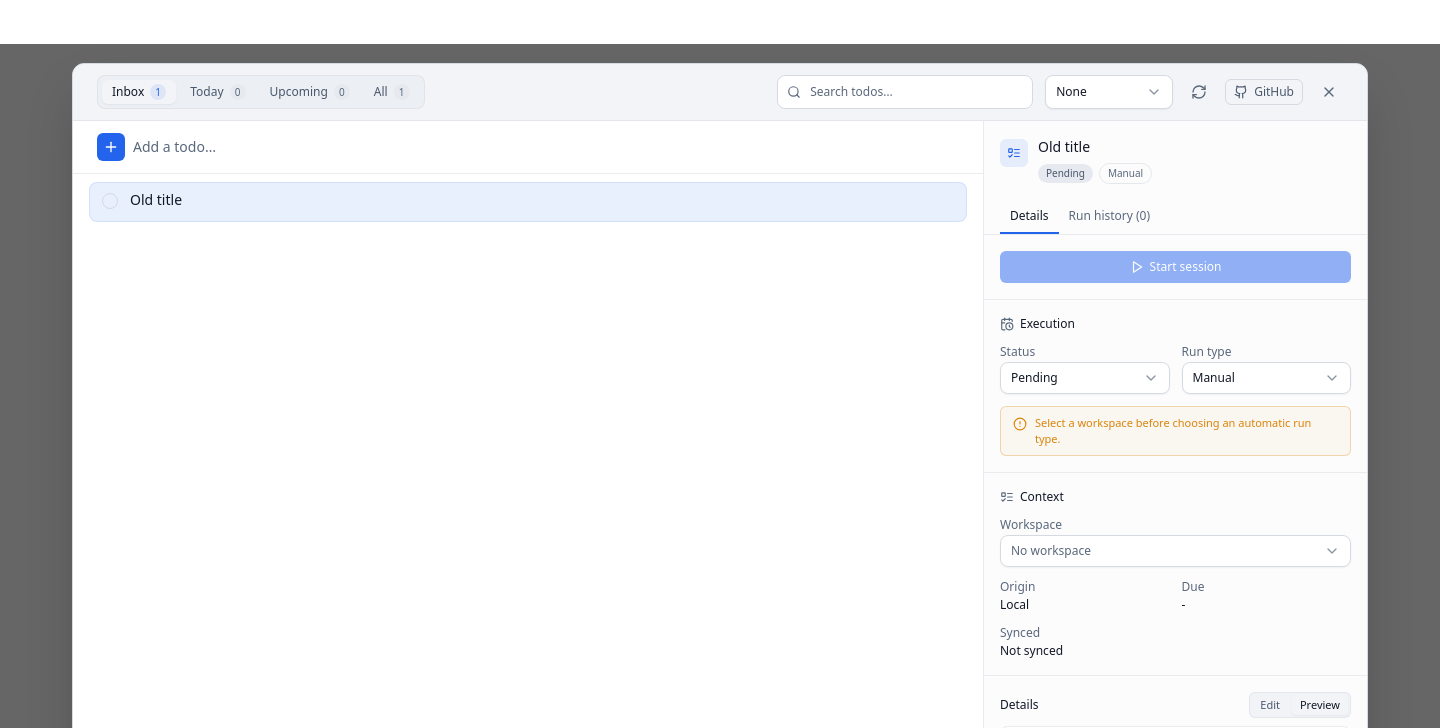
TodosPanel — todo submission shortcuts › saves an edited todo title only after Ctrl+Enter
Double-click the text "Old title" at [156, 199], box [130, 190, 182, 208]
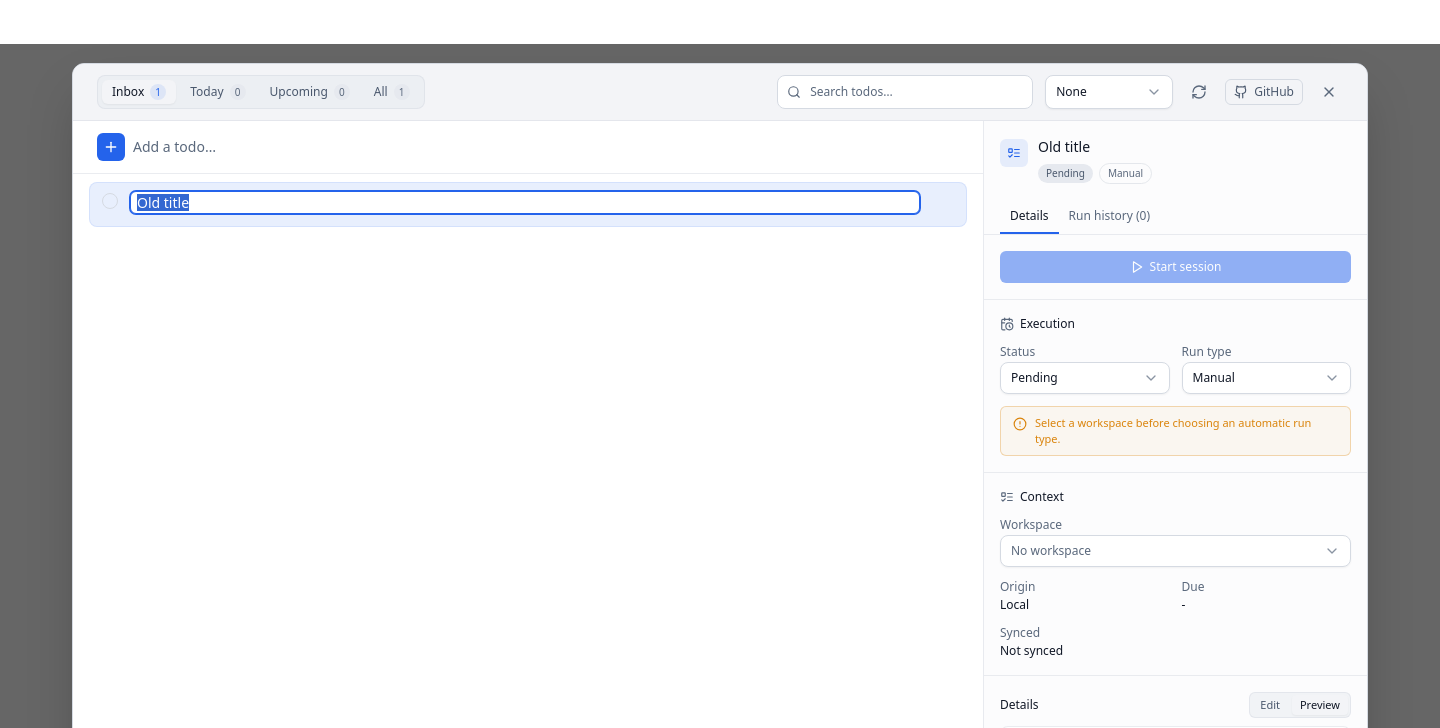
Replace the text in the field named "Edit title" with "New title". click: [525, 202]
box: [130, 190, 920, 214]
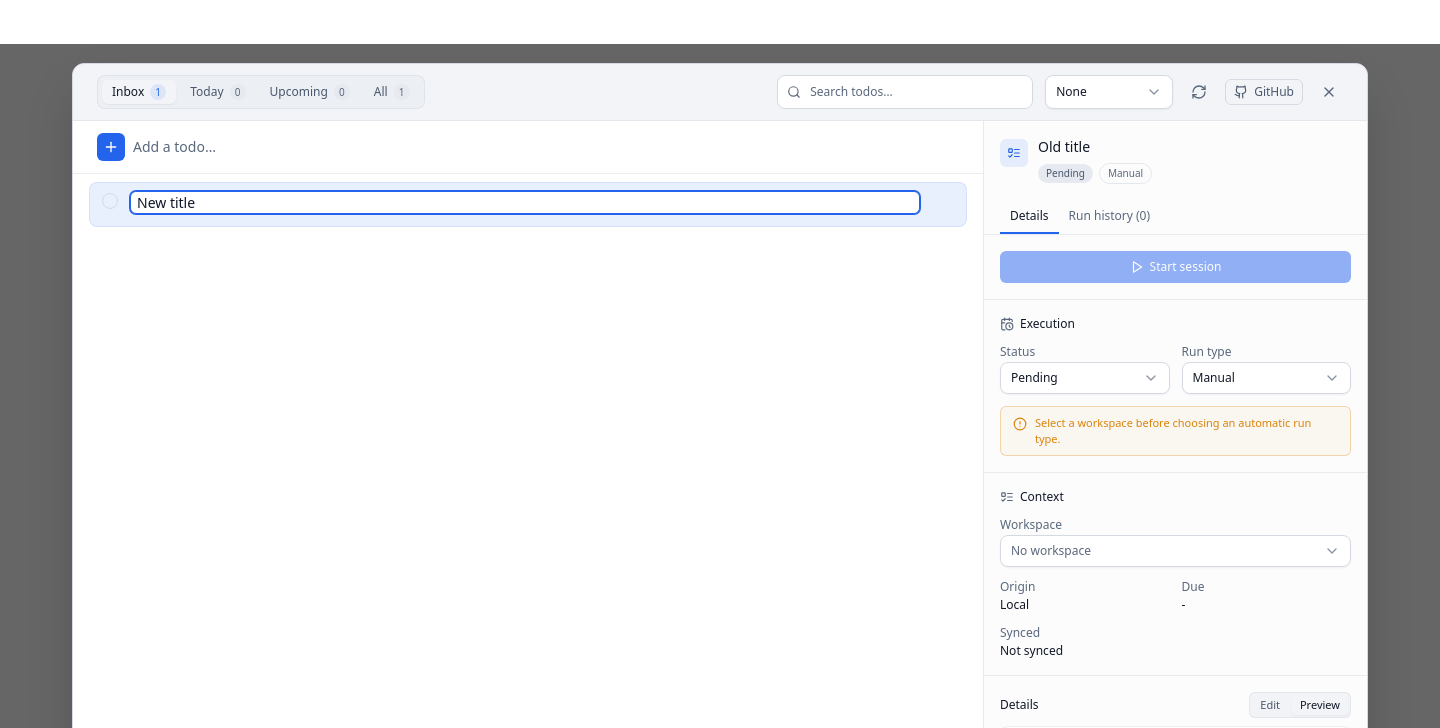
Press Enter in the field named "Edit title", box [130, 190, 920, 214]
Press Enter in the field named "Edit title", box [130, 190, 920, 214]
Press Enter in the field named "Edit title", box [130, 190, 920, 214]
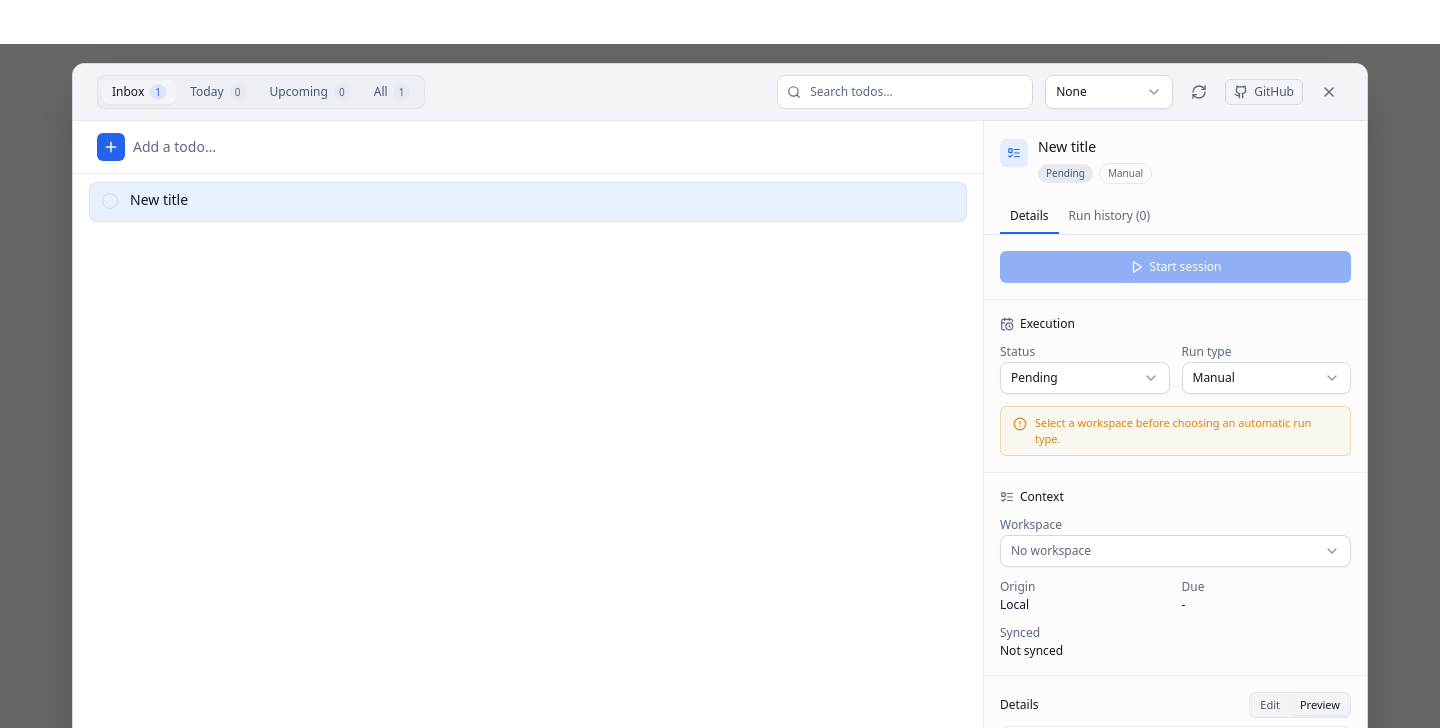
Check: the text "New title" is shown, box [130, 190, 188, 208]
